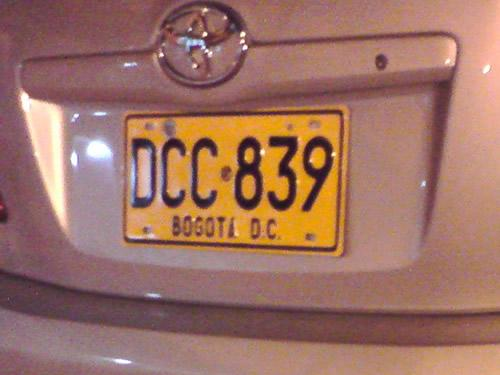placas: (118, 104, 354, 258)
